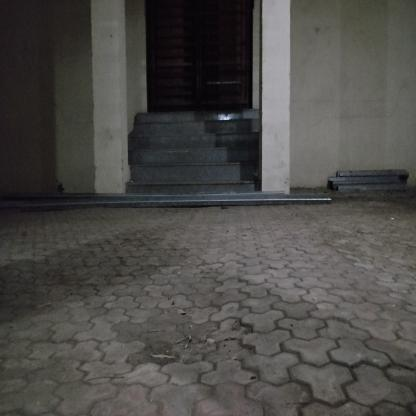stairs: (135, 114, 258, 194)
